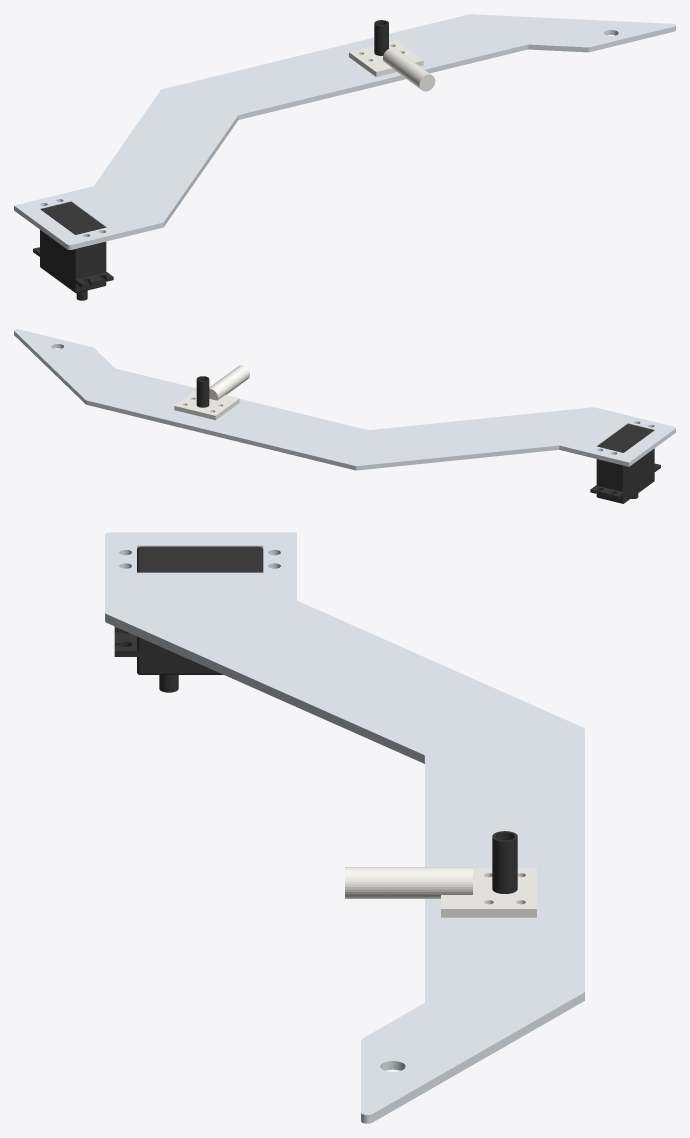
The model's file is left_rocker_link.dae.
3 views of the same model, one above another, from view 1: azimuth 30°, elevation 25°; view 2: azimuth 150°, elevation 25°; view 3: azimuth 270°, elevation 25° (orthographic). The views are drawn at different scales.
Parts seen in each view (by area): view 1: l_rocker_link_-_rocker_plate-1, l_rocker_link_-_GWS_s35t_std-3, l_rocker_link_-_diff_link_pale-1; view 2: l_rocker_link_-_rocker_plate-1, l_rocker_link_-_GWS_s35t_std-3, l_rocker_link_-_diff_link_pale-1; view 3: l_rocker_link_-_rocker_plate-1, l_rocker_link_-_GWS_s35t_std-3, l_rocker_link_-_diff_link_pale-1.
Part boxes in pixels (left/top/right/bottom): l_rocker_link_-_rocker_plate-1: left=14, top=14, right=675, bottom=249; l_rocker_link_-_GWS_s35t_std-3: left=33, top=20, right=388, bottom=300; l_rocker_link_-_diff_link_pale-1: left=349, top=40, right=435, bottom=91; l_rocker_link_-_rocker_plate-1: left=14, top=329, right=675, bottom=470; l_rocker_link_-_GWS_s35t_std-3: left=196, top=376, right=660, bottom=503; l_rocker_link_-_diff_link_pale-1: left=174, top=365, right=249, bottom=420; l_rocker_link_-_rocker_plate-1: left=105, top=532, right=584, bottom=1123; l_rocker_link_-_GWS_s35t_std-3: left=114, top=546, right=517, bottom=893; l_rocker_link_-_diff_link_pale-1: left=345, top=867, right=536, bottom=917.
Bounding box in the file's own units: 0.4309 × 0.15 × 0.0656.
3 materials, 3 textured.
